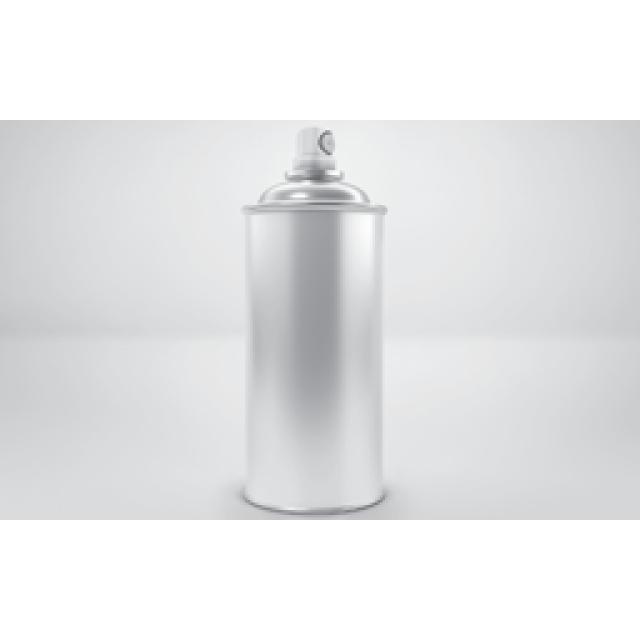B3: (220, 118, 400, 529)
